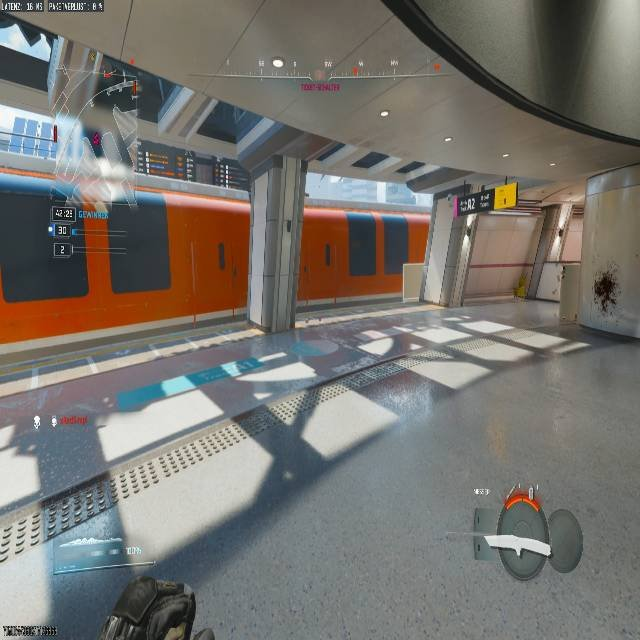head: (93, 576, 196, 640)
player: (594, 270, 617, 315)
